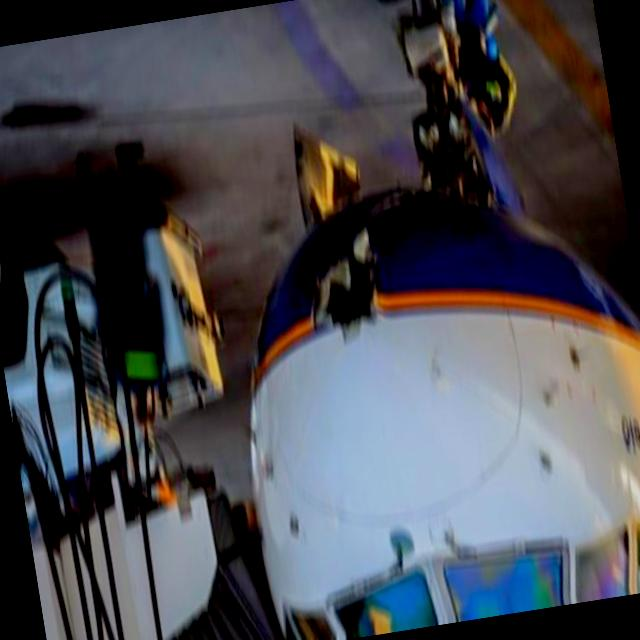crack: (298, 228, 398, 352)
